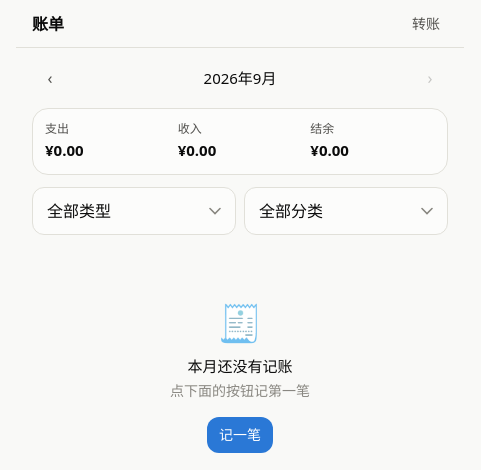
Test: 记账到账单的完整链路 › 切换月份后列表跟着变
Click the button named "上一个月".
click(50, 78)  # box [32,60,68,96]
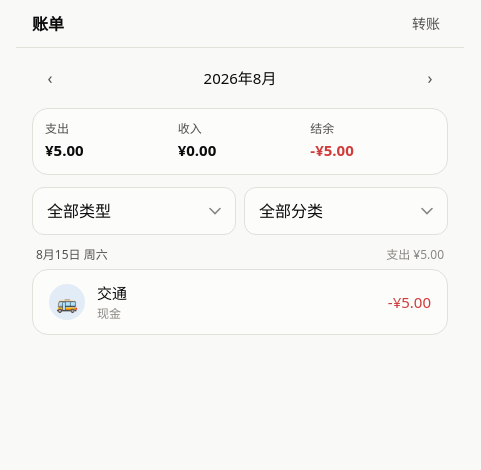
Check: the text "交通" is shown, box [97,282,127,304]
